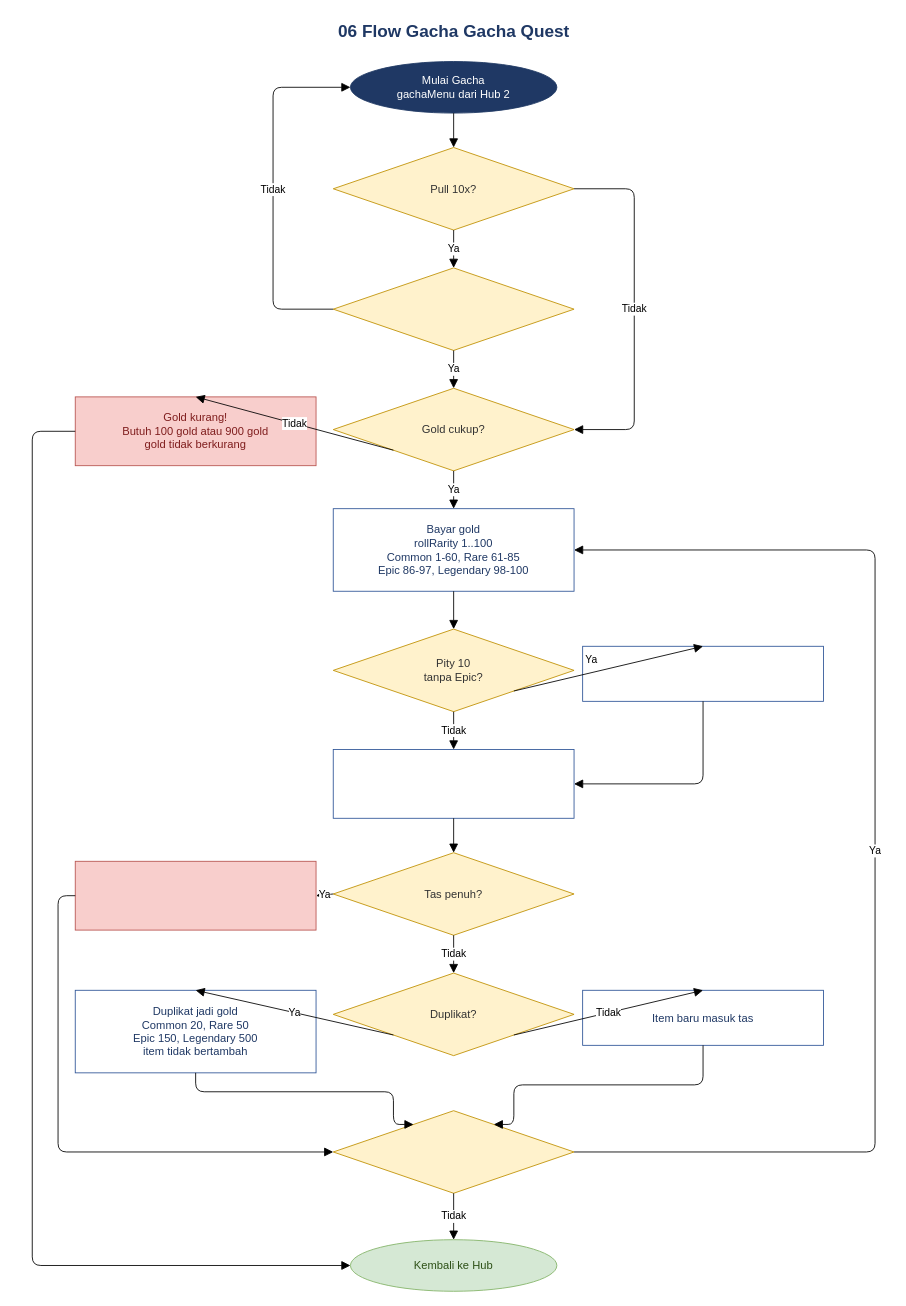
Image size: 906x1306. Some labels were removed from this diagram. Each missing label, with the box of its shape:
Hasil dipaksa Epic pity kembali 0: (582, 645, 823, 701)
Konfirmasi 10x?: (332, 267, 574, 350)
Masih ada tarikan 10x?: (332, 1110, 574, 1193)
pullOnce 0 refund 90 gold per item pada 10x, 100 gold pada 1x: (74, 860, 316, 930)
pullOnce findItemInInventory pilih item dari katalog: (332, 749, 574, 818)
